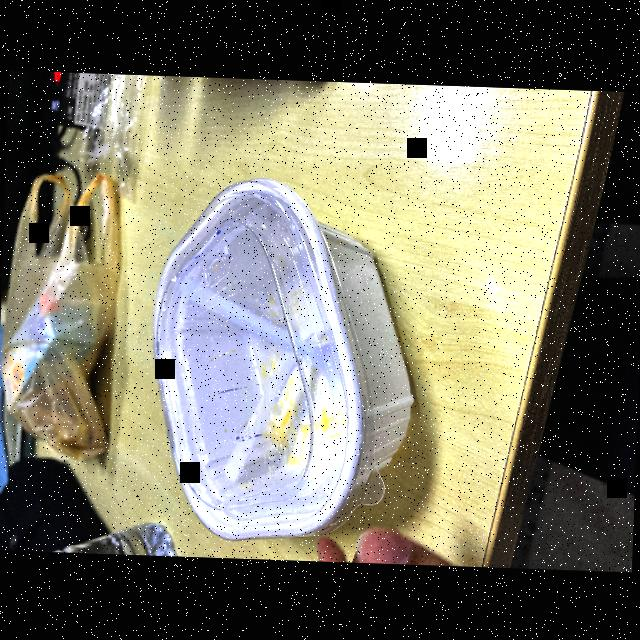plastic_box: (140, 161, 424, 548)
